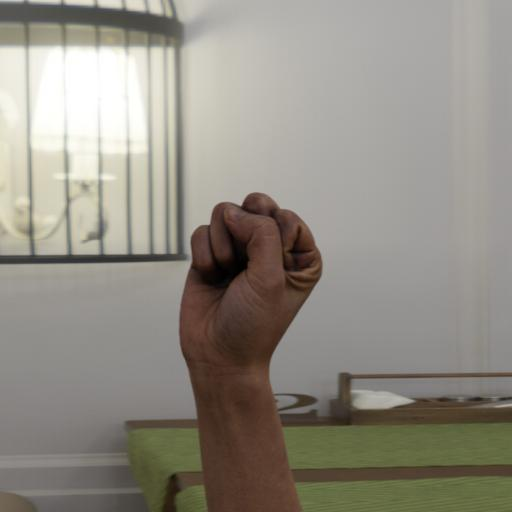S: (163, 181, 328, 400)
